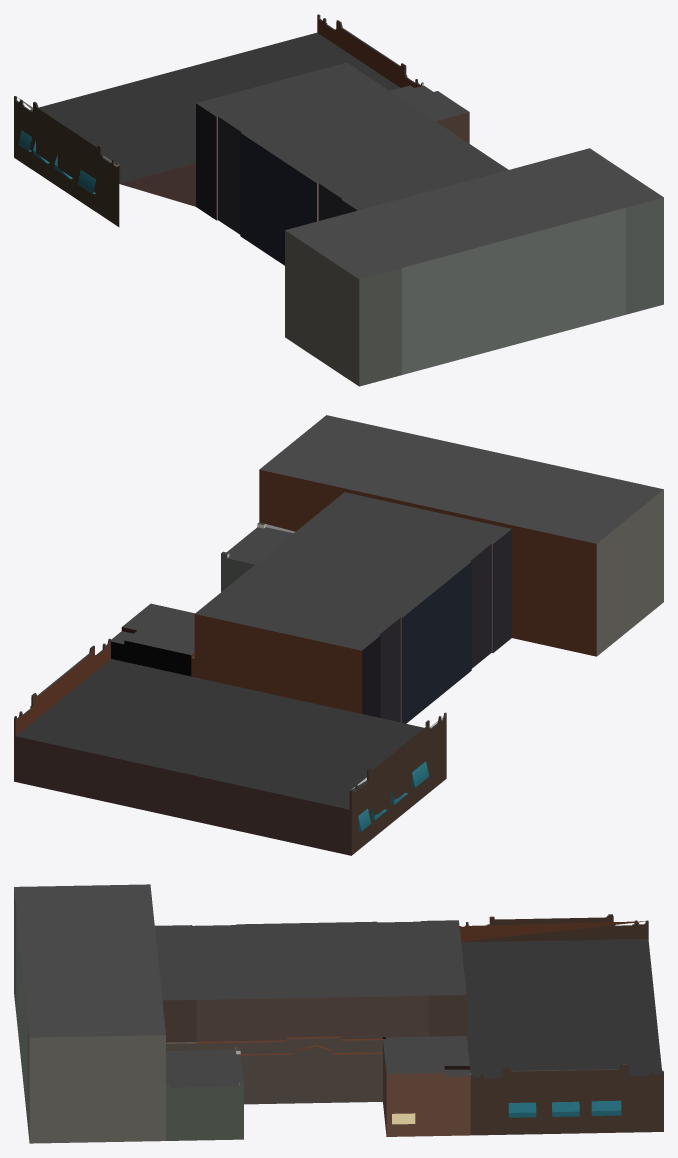
File: 300-market-street.glb
3 views of the same model, one above another, from view 1: azimuth 30°, elevation 25°; view 2: azimuth 150°, elevation 25°; view 3: azimuth 270°, elevation 25° (orthographic). The views are drawn at different scales.
Parts seen in each view (by area): view 1: LOD0; view 2: LOD0; view 3: LOD0.
Part boxes in pixels (x1,y1,x2,y2): LOD0: (14,14,663,386); LOD0: (14,415,663,855); LOD0: (14,884,663,1143).
Size of what is drawn, in the model's own units: 66.92 by 20.2 by 112.
2 materials, 2 textured.
